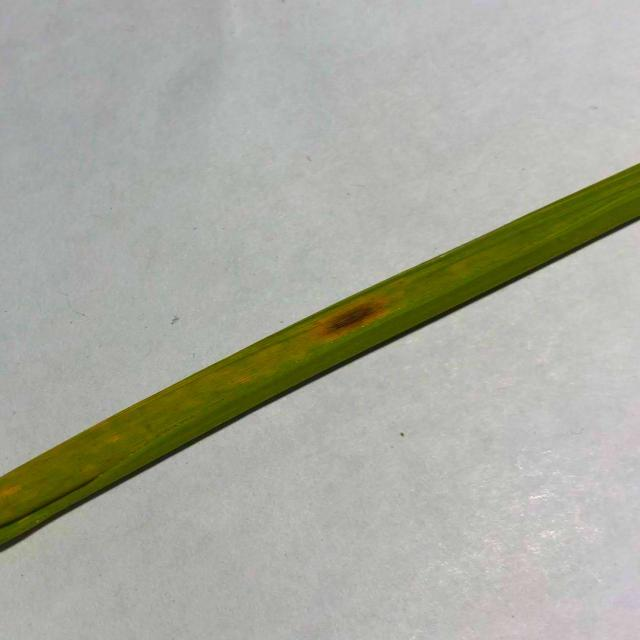brownspots: (316, 288, 386, 339)
